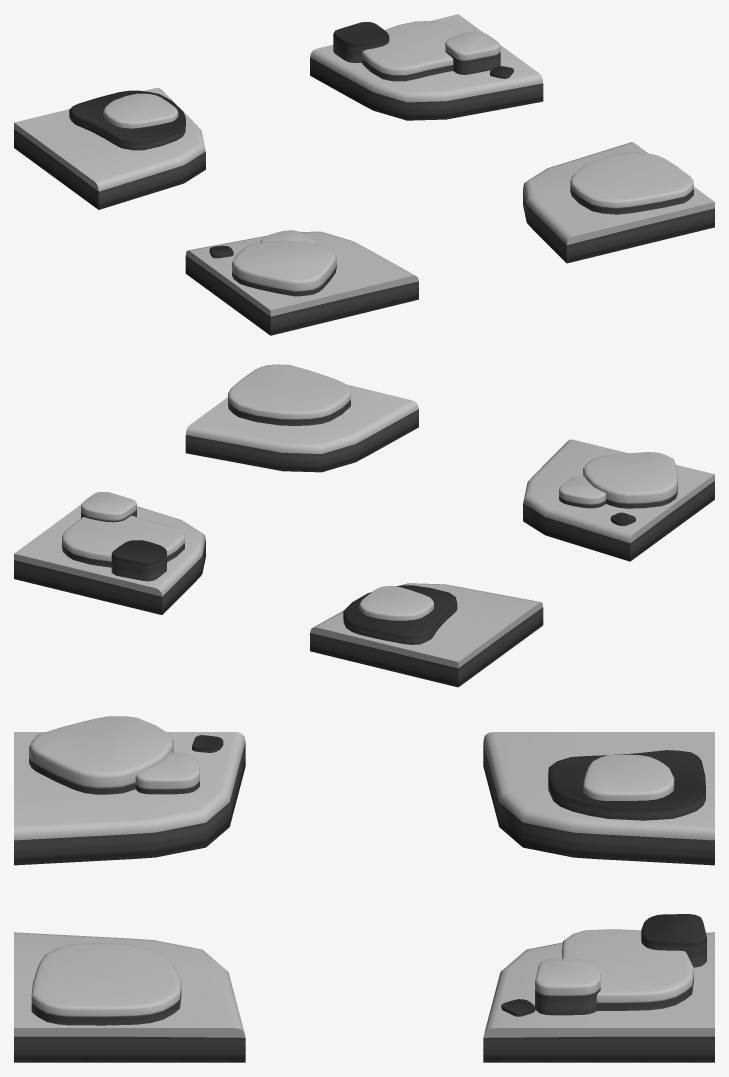
The model's file is C_Rock_01.FBX.
3 renders of one model, top to bottom at view 1: azimuth 30°, elevation 25°; view 2: azimuth 150°, elevation 25°; view 3: azimuth 270°, elevation 25°, orthographic. The views are drawn at different scales.
Parts seen in each view (by area): view 1: C_Rock_01; view 2: C_Rock_01; view 3: C_Rock_01.
Boxes of the visible parts, bbox=[...] form: C_Rock_01: bbox=[14, 14, 714, 335]; C_Rock_01: bbox=[14, 364, 714, 687]; C_Rock_01: bbox=[14, 716, 714, 1062].
Bounding box in the file's own units: 5075 × 561 × 5075.
